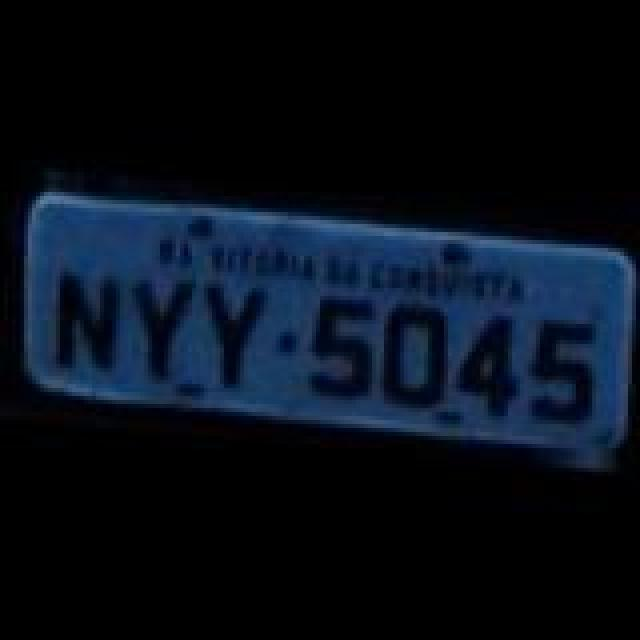4: (450, 306, 526, 422)
5: (518, 314, 602, 438), (308, 288, 380, 400)
N: (52, 264, 124, 376)
O: (376, 304, 456, 416)
Y: (192, 270, 272, 386), (118, 270, 194, 386)
